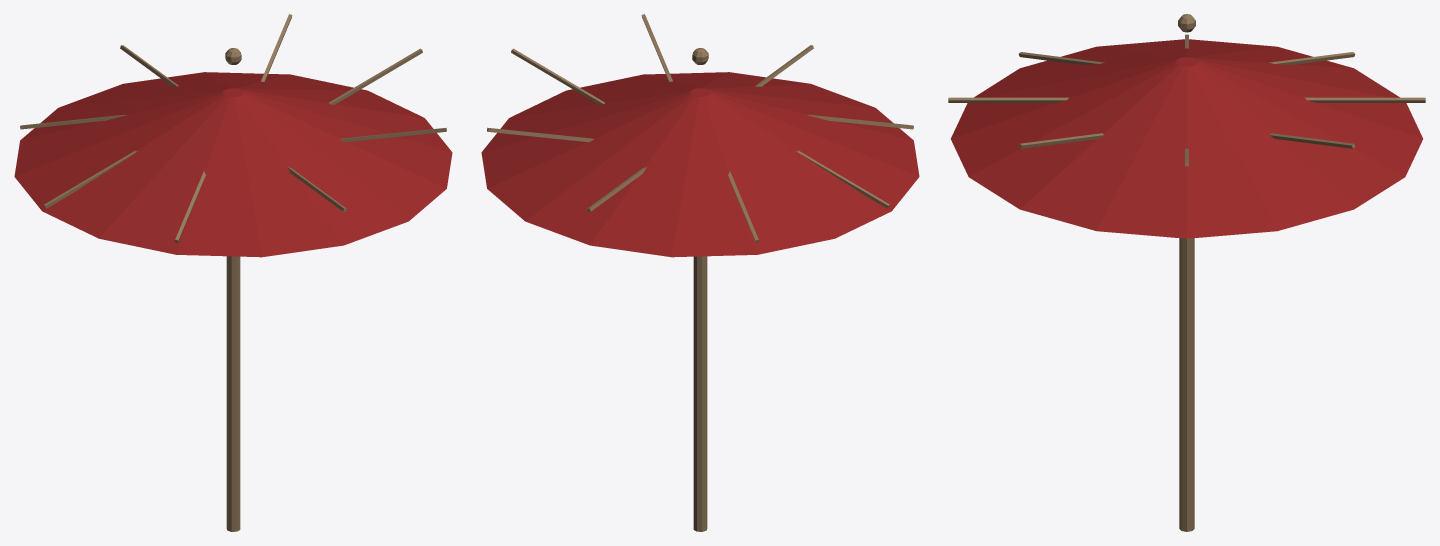
The model's file is PRP_Umbrella_BCH_v001.glb.
3 views of the same model, side by side, from view 1: azimuth 30°, elevation 25°; view 2: azimuth 150°, elevation 25°; view 3: azimuth 270°, elevation 25° (orthographic). The views are drawn at different scales.
Parts seen in each view (by area): view 1: PRP_Umbrella_BCH_v001; view 2: PRP_Umbrella_BCH_v001; view 3: PRP_Umbrella_BCH_v001.
Boxes of the visible parts, box(x1,y1,x2,y2) form: PRP_Umbrella_BCH_v001: box(14, 14, 452, 531); PRP_Umbrella_BCH_v001: box(481, 14, 919, 531); PRP_Umbrella_BCH_v001: box(948, 14, 1425, 531).
Size of the model in its own units: 2.5 by 3 by 2.53.
